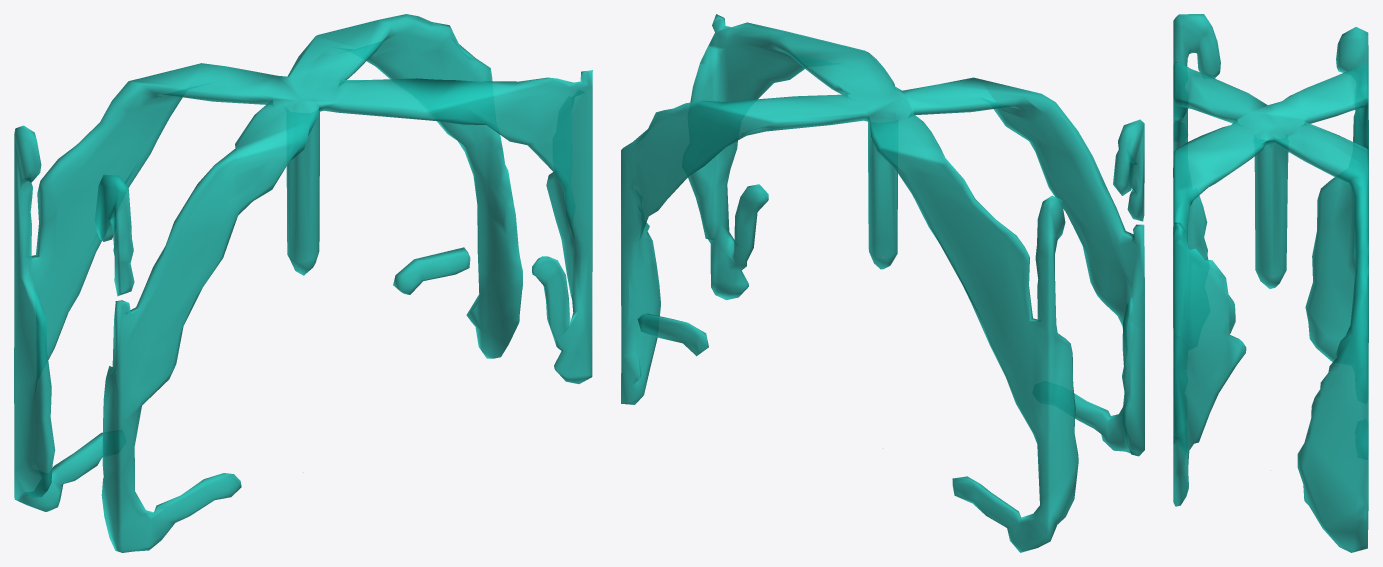
3 views of the same model, side by side, from view 1: azimuth 30°, elevation 25°; view 2: azimuth 150°, elevation 25°; view 3: azimuth 270°, elevation 25° (orthographic). The views are drawn at different scales.
Parts seen in each view (by area): view 1: Liquid_Domain; view 2: Liquid_Domain; view 3: Liquid_Domain.
Part boxes in pixels (left/top/right/bottom): Liquid_Domain: left=14, top=14, right=592, bottom=552; Liquid_Domain: left=621, top=14, right=1144, bottom=552; Liquid_Domain: left=1173, top=14, right=1368, bottom=552.
Size of the model in its own units: 884 by 733 by 345.
